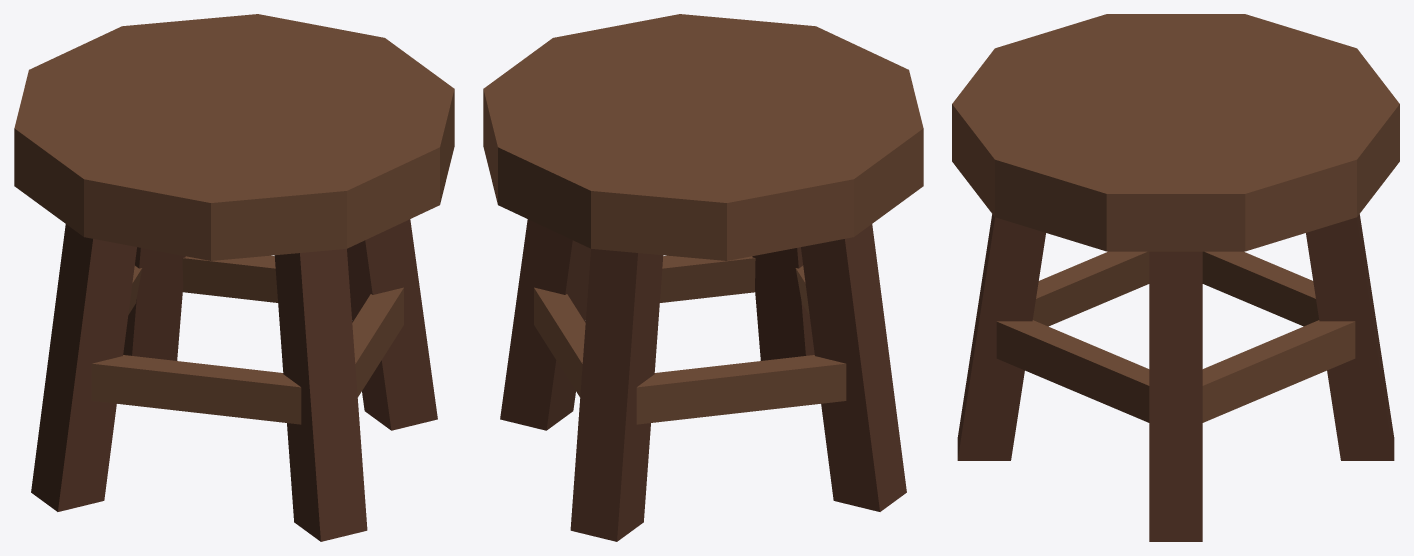
File: Stool.fbx
The picture shows the model from 3 angles, left to right: view 1: azimuth 30°, elevation 25°; view 2: azimuth 150°, elevation 25°; view 3: azimuth 270°, elevation 25°; orthographic projection.
Visible parts, largest first — view 1: Stool; view 2: Stool; view 3: Stool.
Part boxes in pixels (left/top/right/bottom): Stool: left=14, top=14, right=454, bottom=541; Stool: left=483, top=14, right=923, bottom=541; Stool: left=952, top=14, right=1399, bottom=541.
Size of the model in its own units: 68.69 by 60 by 70.43.
